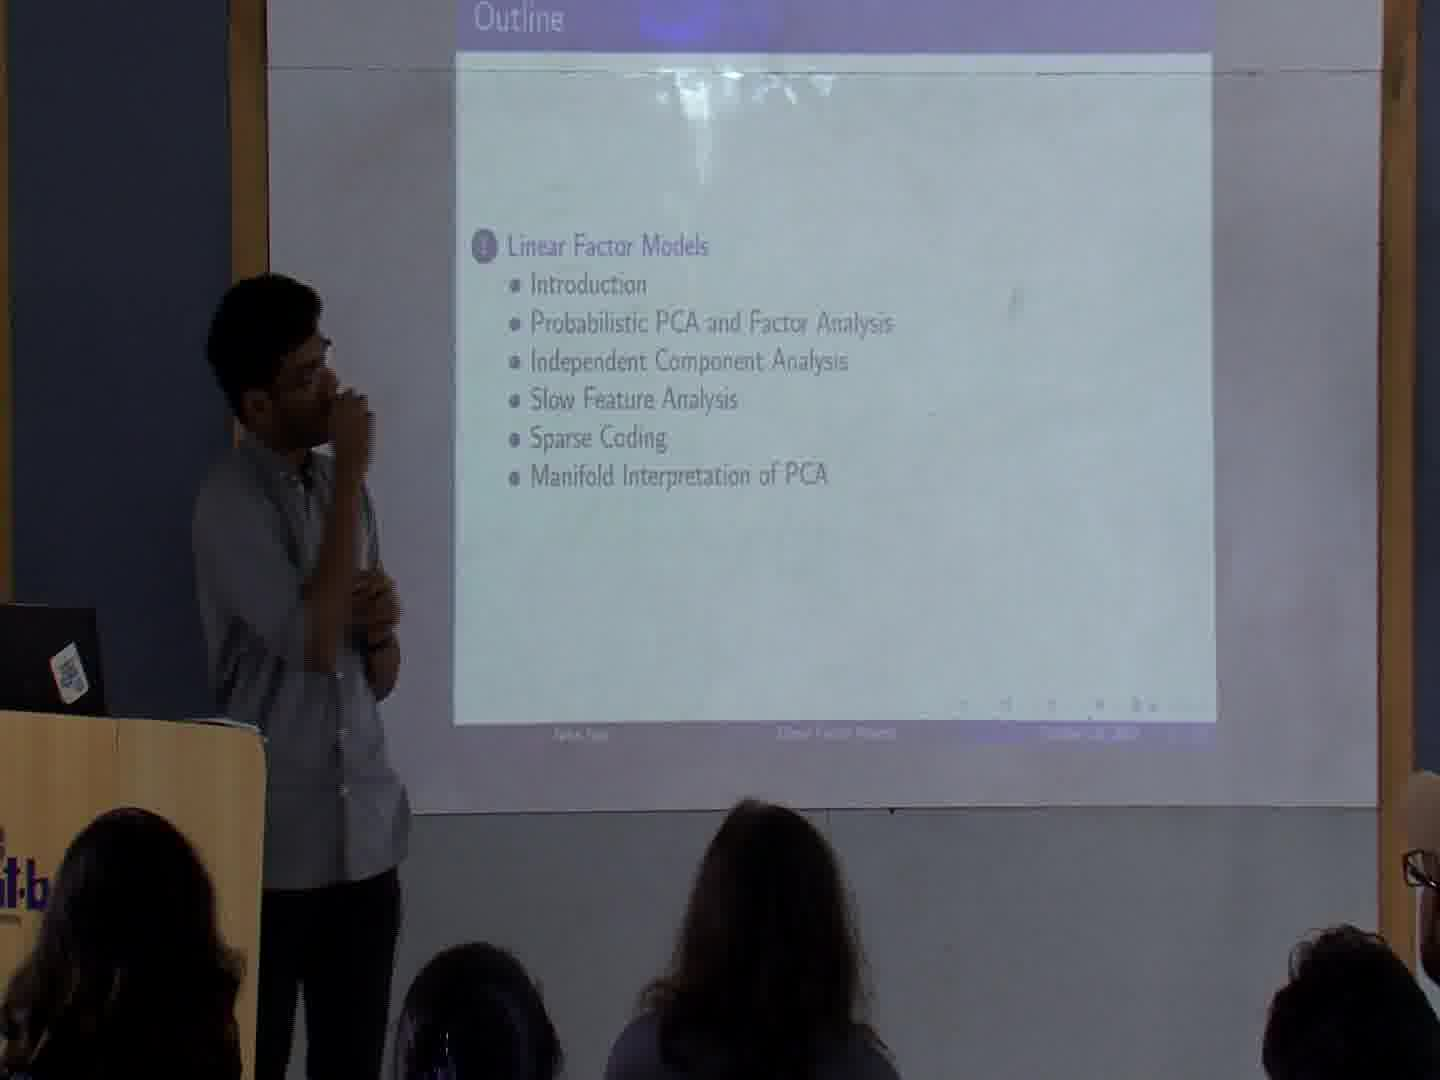slide: (454, 2, 1214, 744)
